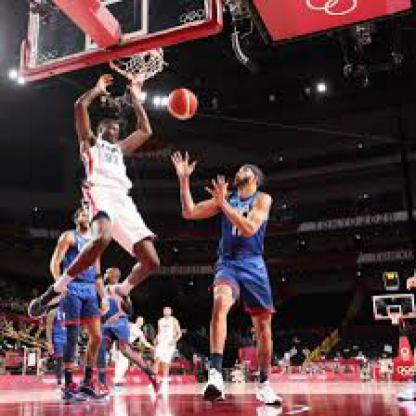basketball: (167, 87, 197, 122)
rim: (110, 48, 165, 81)
